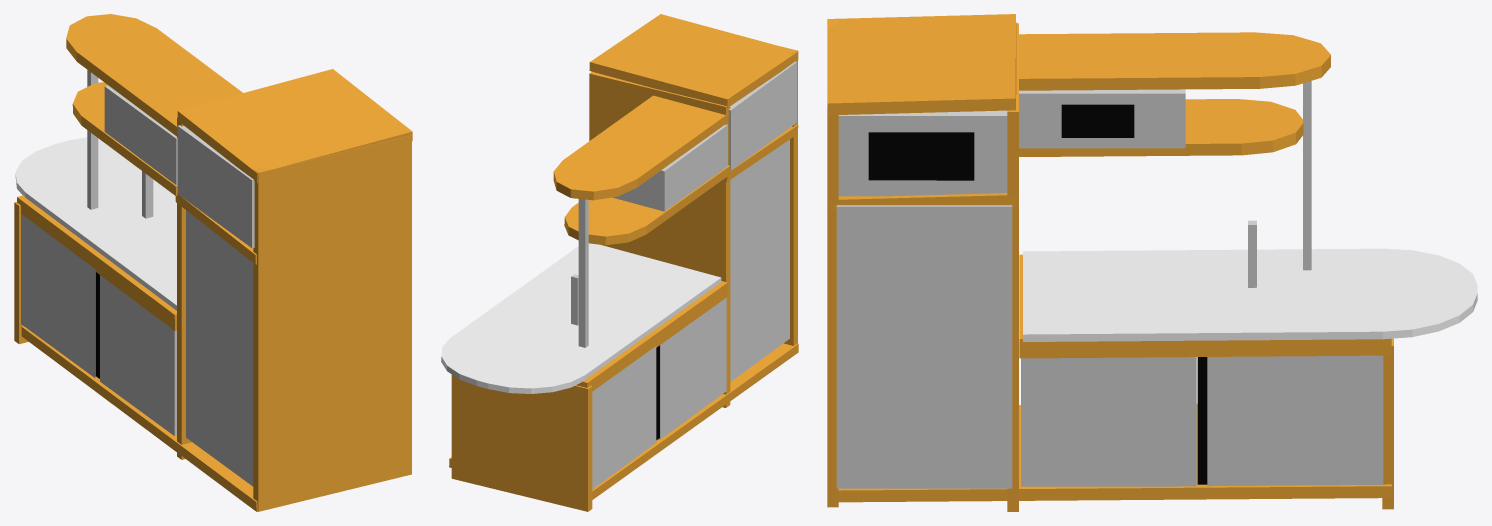
3 views of the same model, side by side, from view 1: azimuth 30°, elevation 25°; view 2: azimuth 150°, elevation 25°; view 3: azimuth 270°, elevation 25° (orthographic). The views are drawn at different scales.
Visible parts, largest first — view 1: Cube.002, Cube, Cube.006, Cube.012, Cube.014, Cube.008, Cube.007, Cube.005, Cube.004, Cube.016, Cube.011, Cube.015 (+6 smaller); view 2: Cube.012, Cube.010, Cube, Cube.006, Cube.001, Cube.014, Cube.008, Cube.007, Cube.005, Cube.015, Cube.016, Cube.004 (+4 smaller); view 3: Cube, Cube.012, Cube.008, Cube.007, Cube.006, Cube.014, Cube.005, Cube.004, Cube.015, Cube.016, Cube.011, Cube.013 (+7 smaller).
Part boxes in pixels (<box>): Cube.002: <box>253,135,411,511</box>; Cube: <box>186,210,253,486</box>; Cube.006: <box>177,69,412,182</box>; Cube.012: <box>15,137,176,310</box>; Cube.014: <box>66,14,242,136</box>; Cube.008: <box>21,214,97,378</box>; Cube.007: <box>100,275,176,435</box>; Cube.005: <box>177,125,254,248</box>; Cube.004: <box>21,326,257,511</box>; Cube.016: <box>104,85,177,184</box>; Cube.011: <box>17,195,176,330</box>; Cube.015: <box>72,82,177,195</box>; Cube.012: <box>441,243,721,393</box>; Cube.010: <box>451,374,592,511</box>; Cube: <box>730,139,789,381</box>; Cube.006: <box>589,14,798,107</box>; Cube.001: <box>589,71,730,407</box>; Cube.014: <box>553,95,728,200</box>; Cube.008: <box>592,346,656,489</box>; Cube.007: <box>658,297,726,439</box>; Cube.005: <box>728,61,796,170</box>; Cube.015: <box>564,165,730,245</box>; Cube.016: <box>612,124,727,211</box>; Cube.004: <box>449,343,798,499</box>; Cube: <box>836,205,1012,488</box>; Cube.012: <box>1023,248,1477,341</box>; Cube.008: <box>1207,355,1383,486</box>; Cube.007: <box>1021,357,1196,486</box>; Cube.006: <box>827,14,1016,115</box>; Cube.014: <box>1019,32,1330,90</box>; Cube.005: <box>838,110,1007,196</box>; Cube.004: <box>838,403,1391,502</box>; Cube.015: <box>1019,99,1303,156</box>; Cube.016: <box>1019,89,1185,148</box>; Cube.011: <box>1019,254,1391,358</box>; Cube.013: <box>868,132,974,180</box>.
Bounding box in the file's own units: 0.5231 × 1.56 × 1.09.
